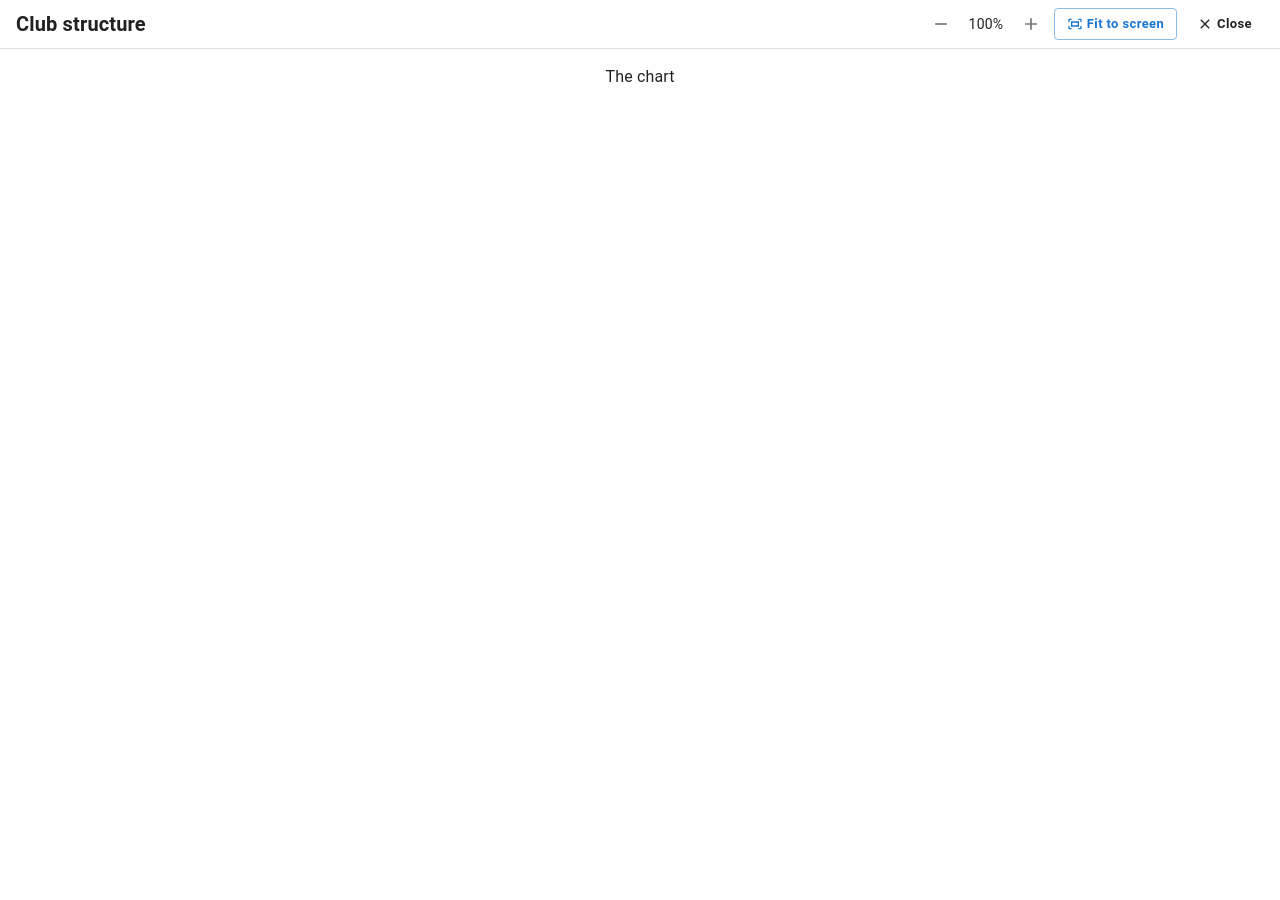
OrgChartFullScreen › Fit to screen returns to the fit scale
What coordinates should you click on to do the following:
click the button named "Zoom in"
I would click on:
 (1031, 24)
Its box is x1=1016 y1=9 x2=1046 y2=39.
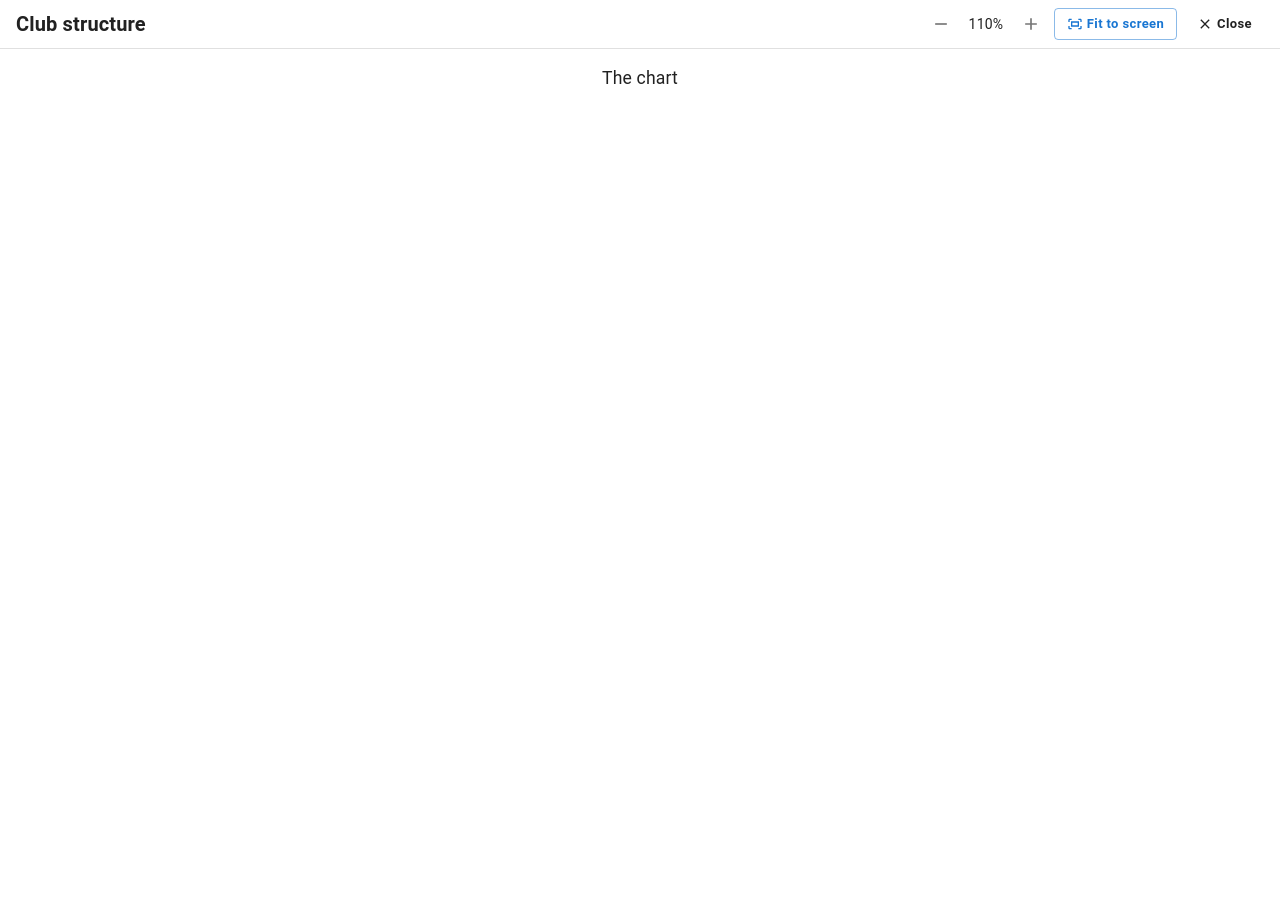
What coordinates should you click on to do the following:
click the button "Fit to screen"
I would click on:
 (1115, 24)
Its box is x1=1054 y1=8 x2=1177 y2=40.
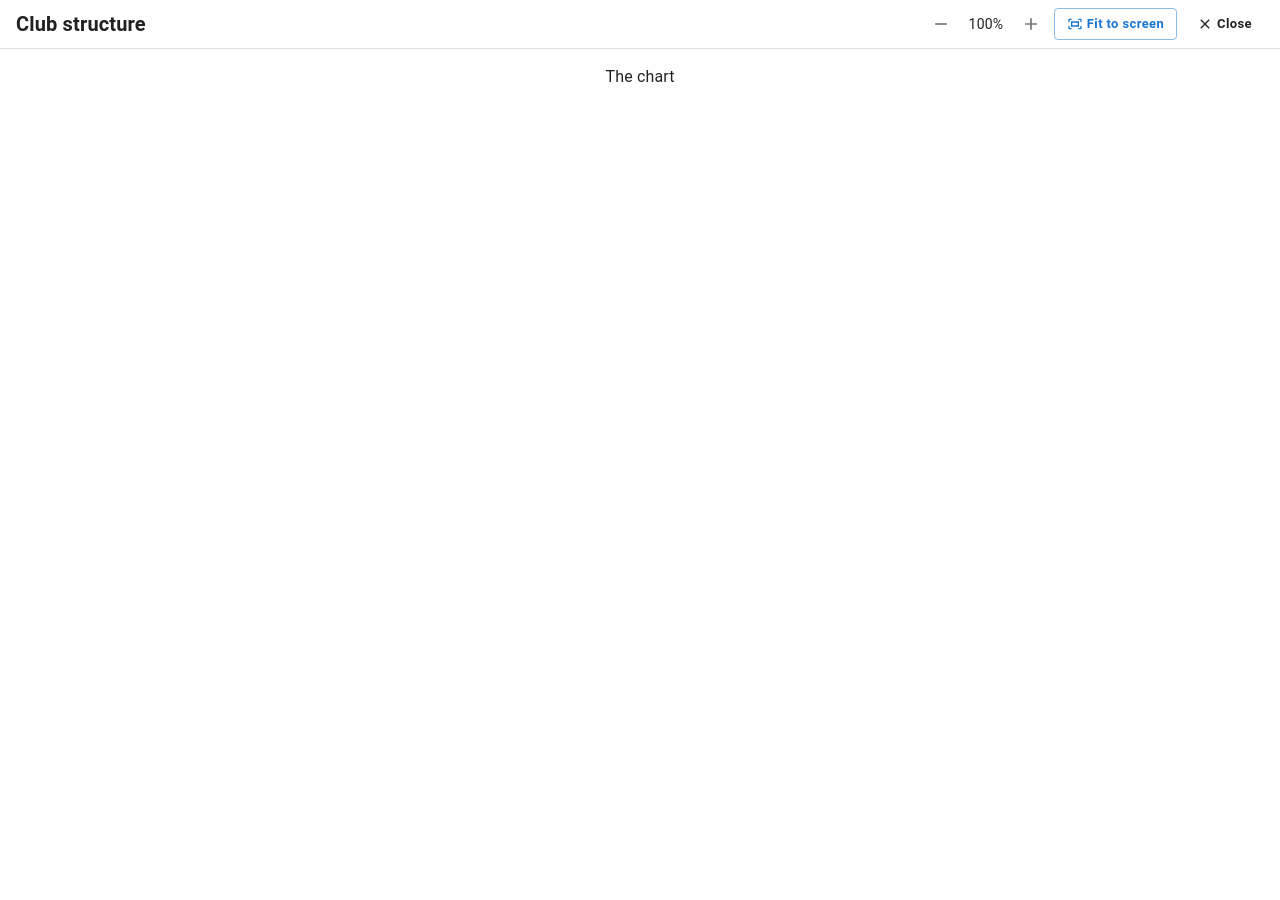
Expected: the text with test id "zoom-percent" reads "100%", x1=969 y1=16 x2=1003 y2=32
